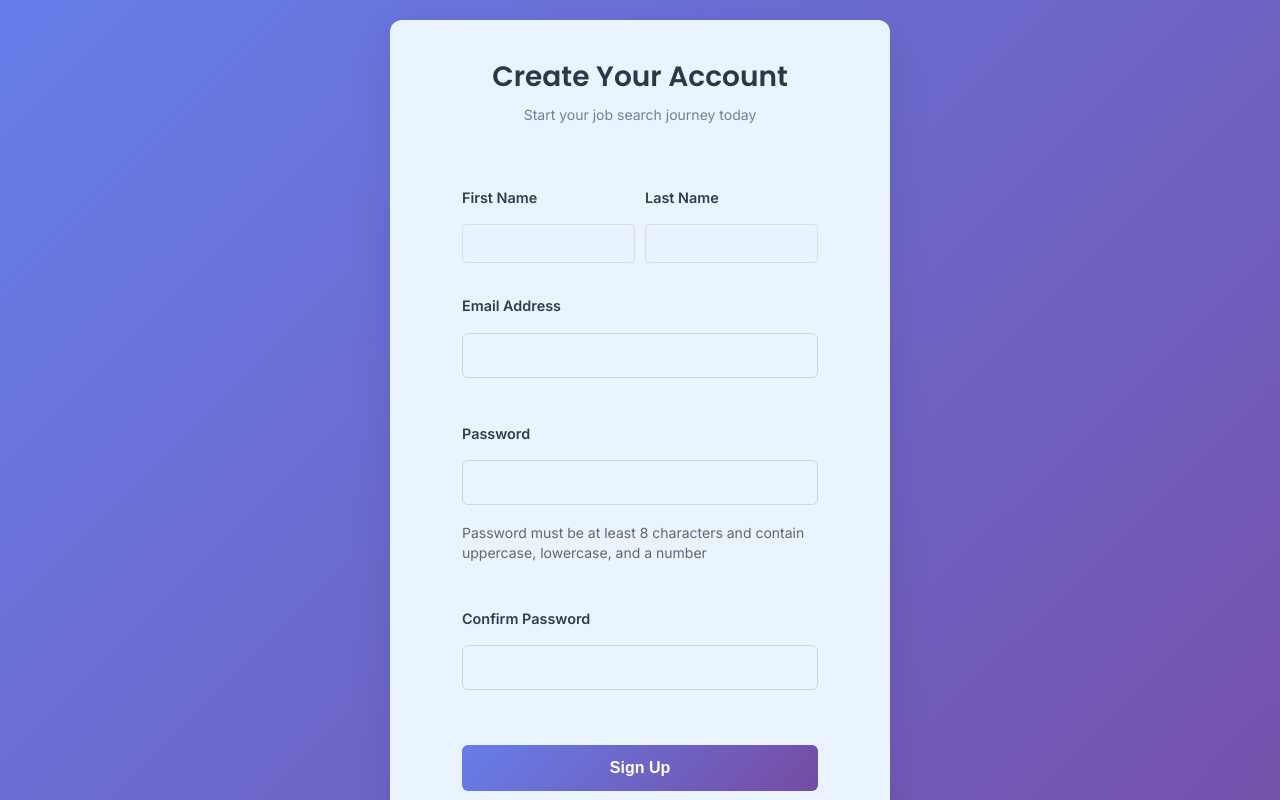
Test case: Register › shows error when passwords do not match
In the field labelled "First Name": x=548, y=244 [462,224,635,263], type "John"
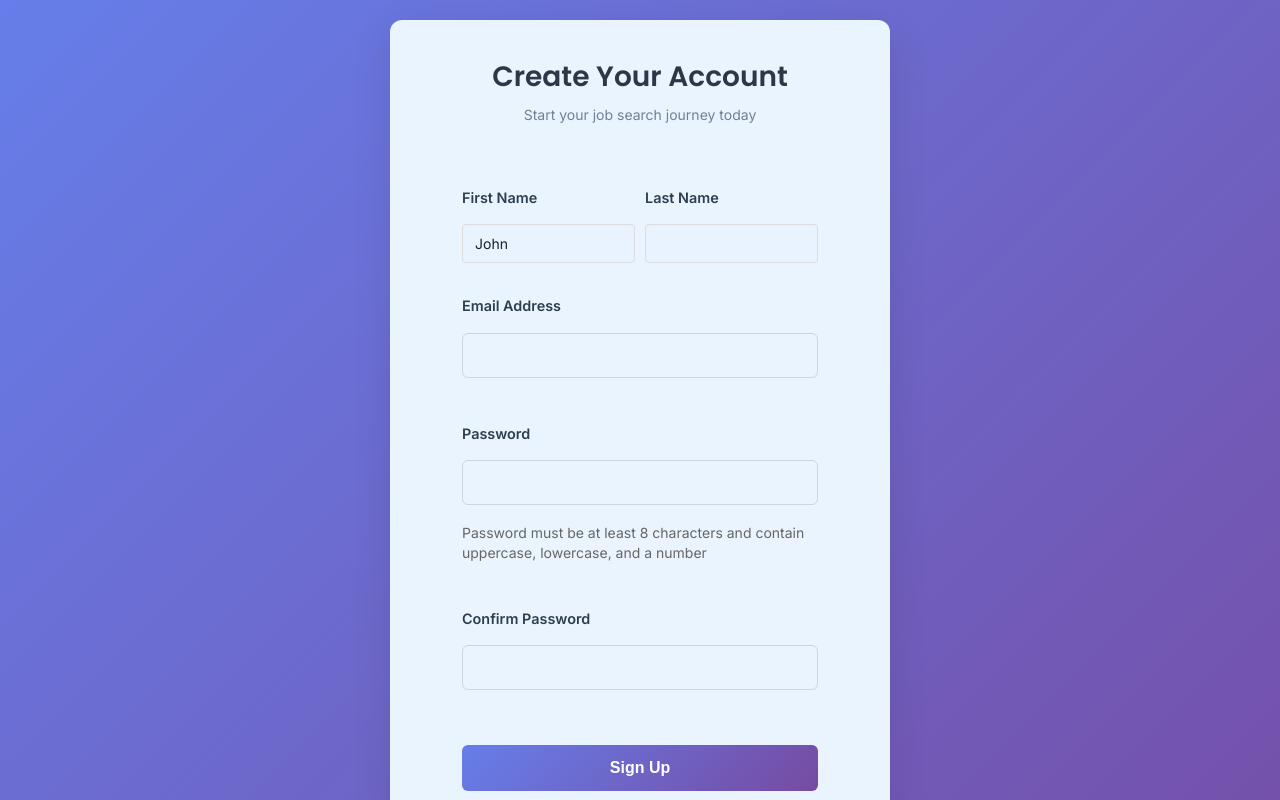
In the field labelled "Last Name": x=732, y=244 [645,224,818,263], type "Doe"
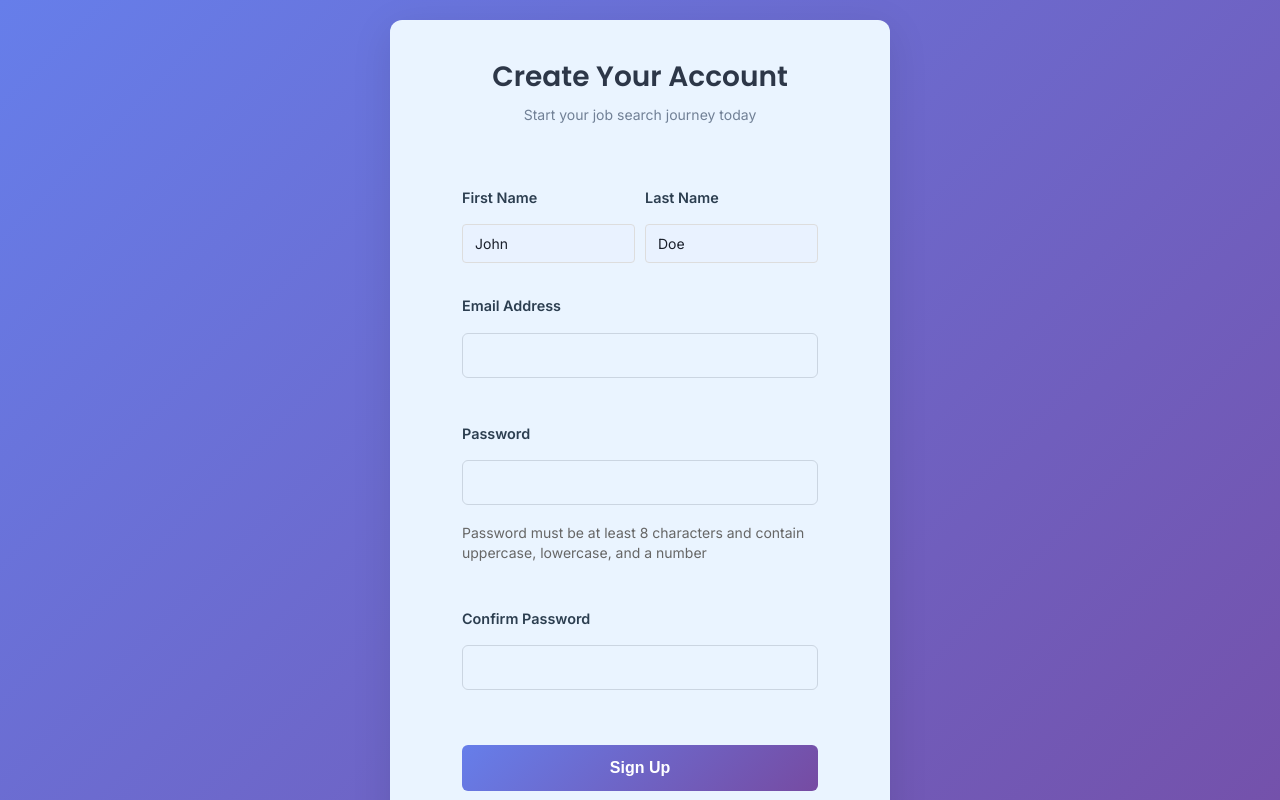
In the field labelled "Email Address": x=640, y=355 [462,333,818,378], type "john@example.com"
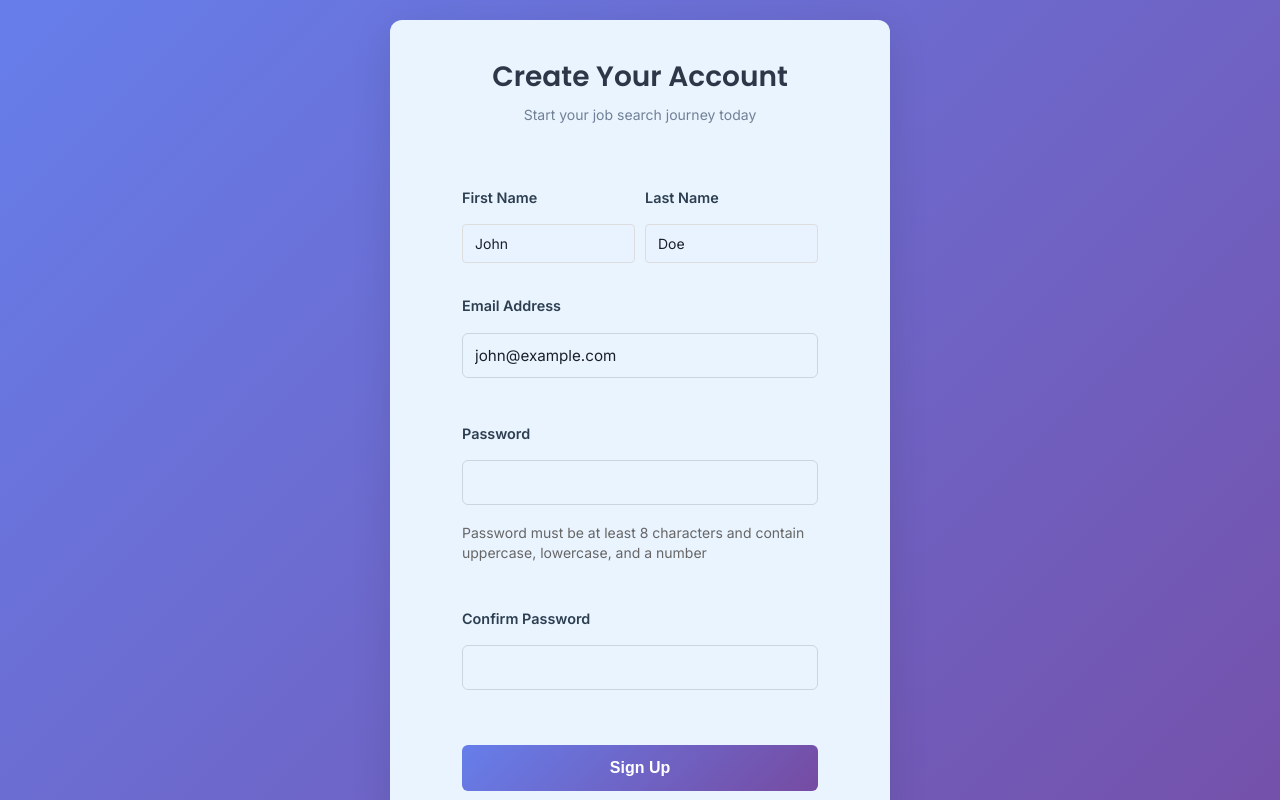
In the password field labelled "Password": x=640, y=483 [462,460,818,505], type "Password1"
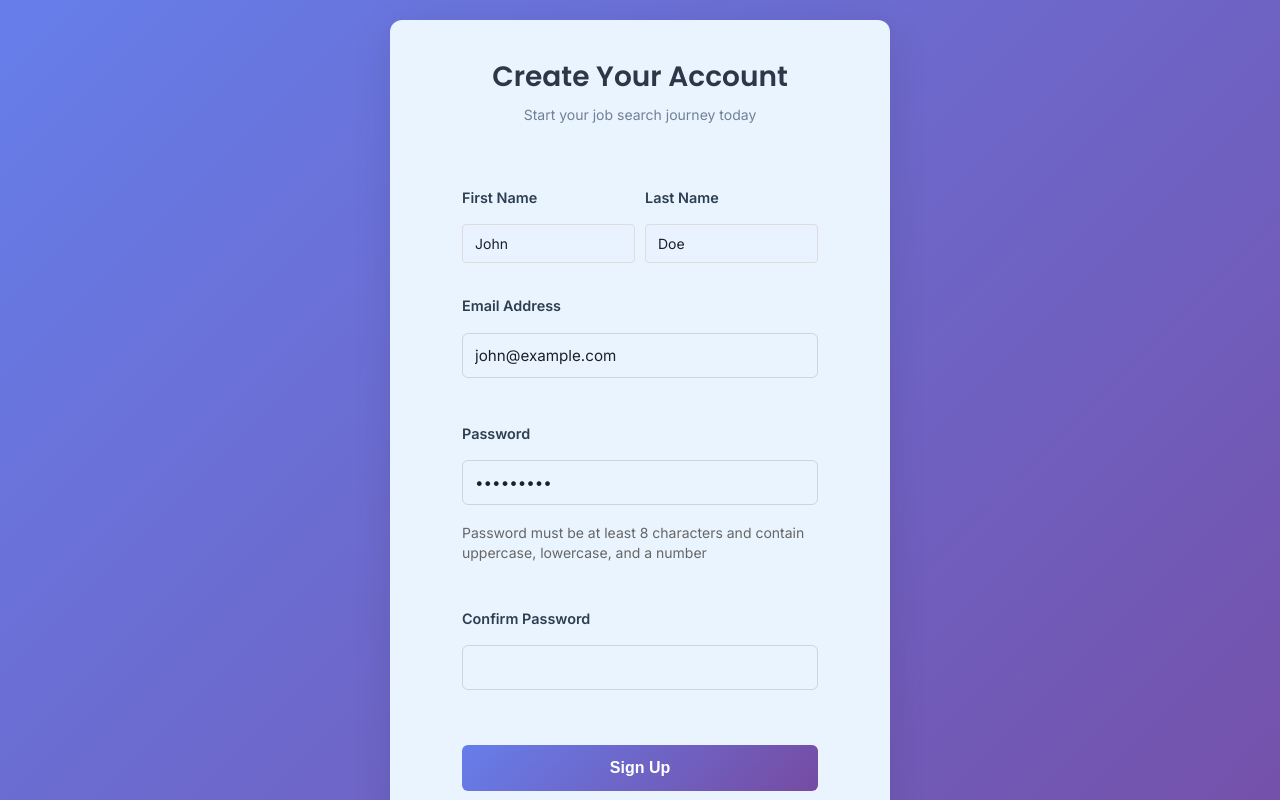
In the password field labelled "Confirm Password": x=640, y=668 [462,645,818,690], type "Different1"
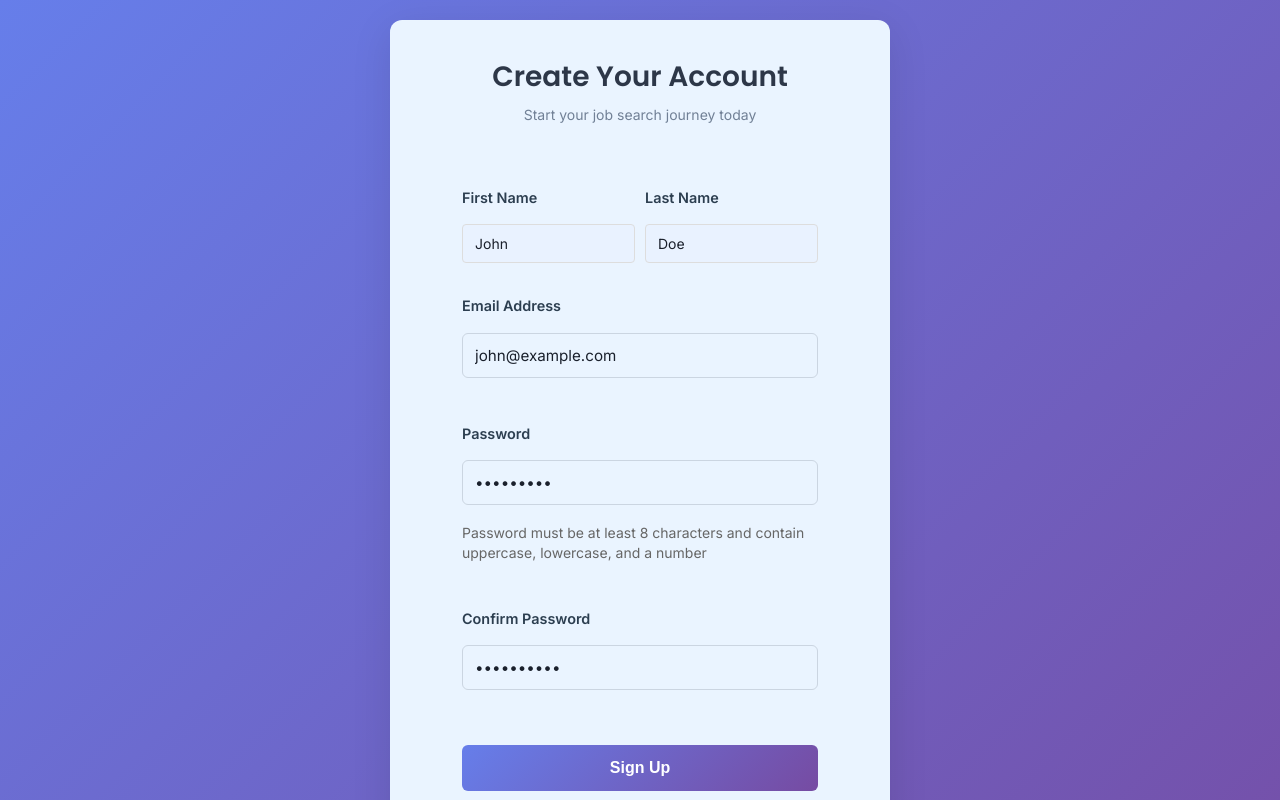
Click the button "Sign Up": x=640, y=768 [462,745,818,791]
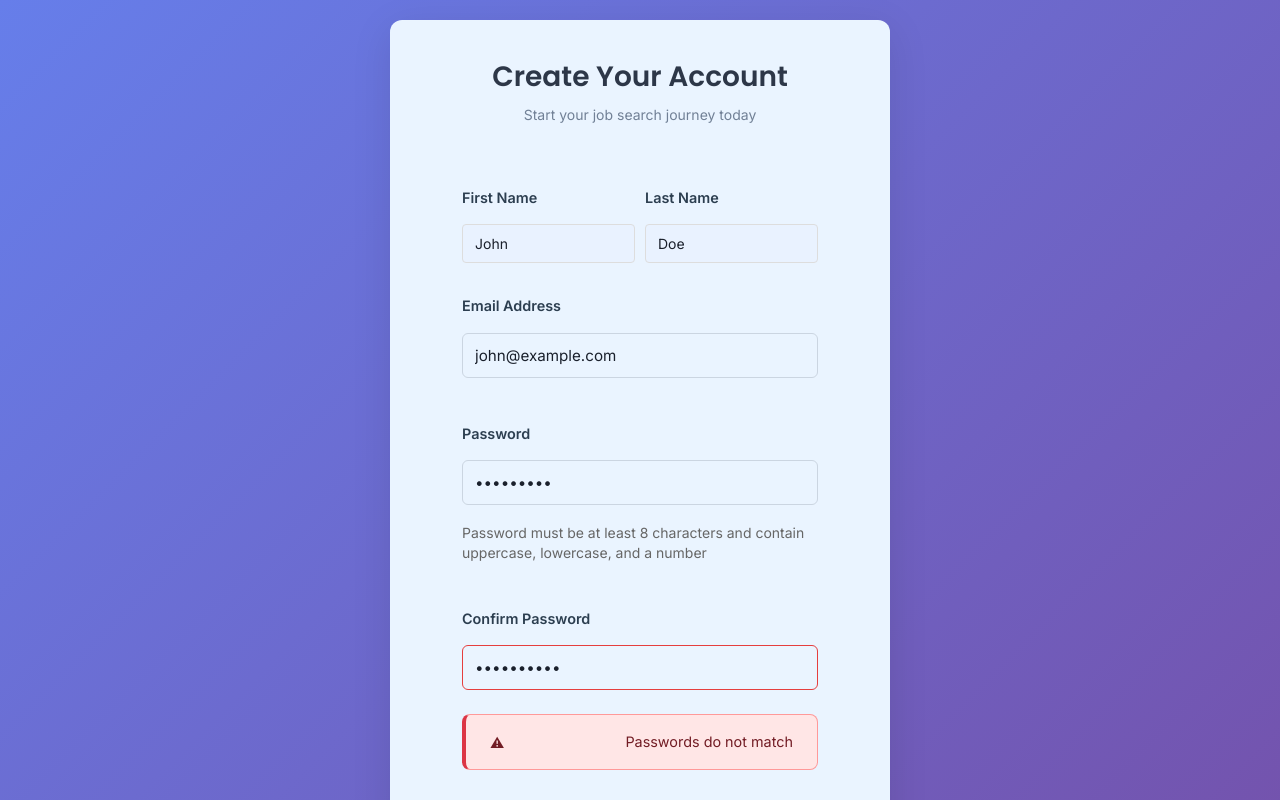
Check: the text "Passwords do not match" is shown, box [462,714,818,770]
